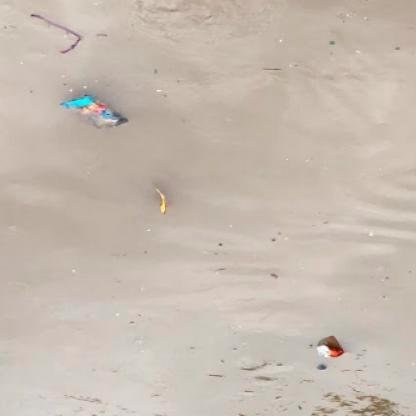Metal: (317, 338, 349, 360)
Trash: (61, 94, 127, 132)
